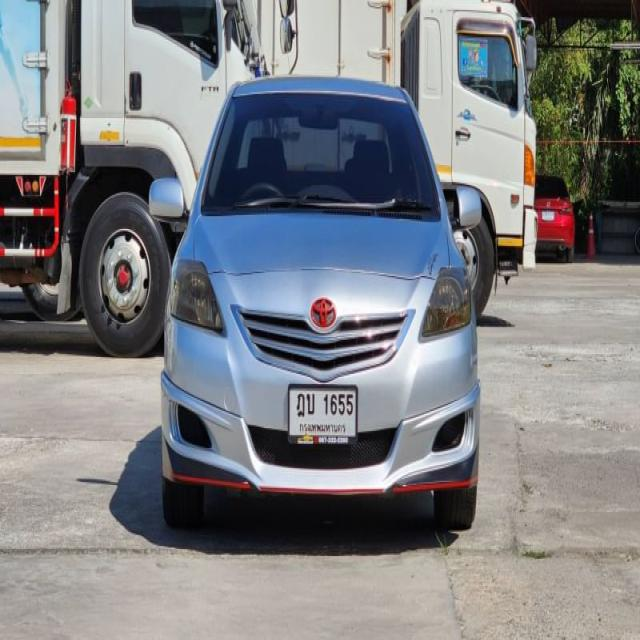license_plate: (286, 382, 361, 453)
